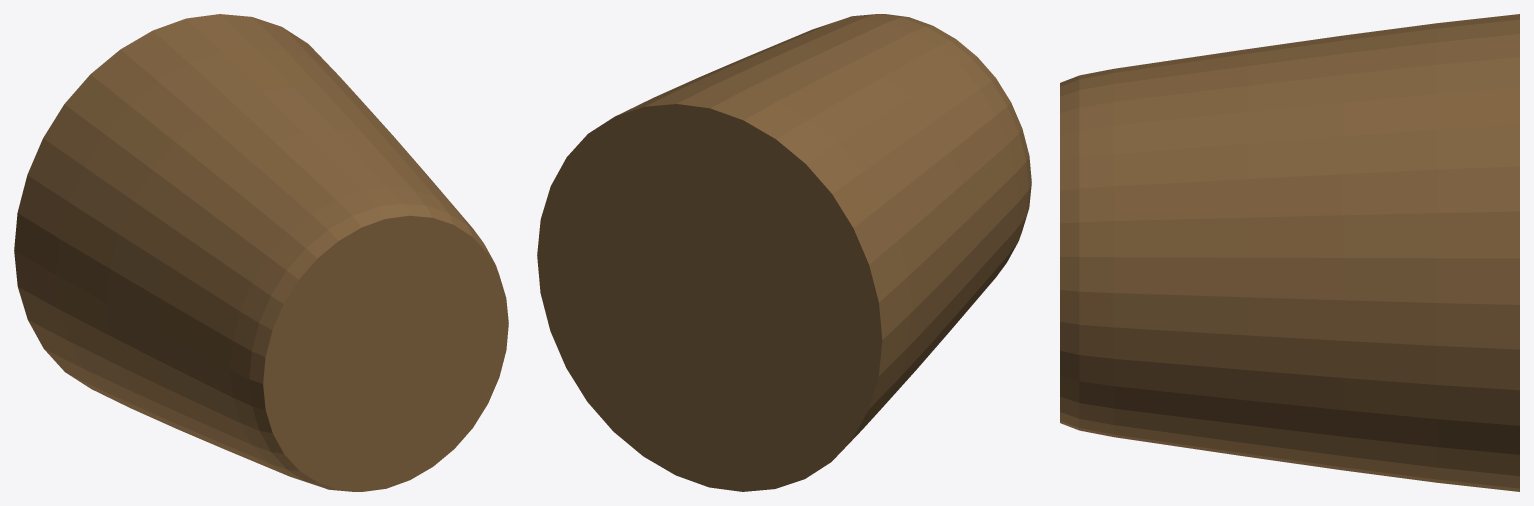
File: BUNsegment_joint_visu.dae
The picture shows the model from 3 angles, left to right: view 1: azimuth 30°, elevation 25°; view 2: azimuth 150°, elevation 25°; view 3: azimuth 270°, elevation 25°; orthographic projection. The views are drawn at different scales.
Visible parts, largest first — view 1: node; view 2: node; view 3: node.
Part boxes in pixels (x1,y1,x2,y2): node: [14, 14, 508, 491]; node: [537, 14, 1031, 491]; node: [1060, 14, 1519, 491].
Size of the model in its own units: 0.0394 by 0.0414 by 0.0394.
